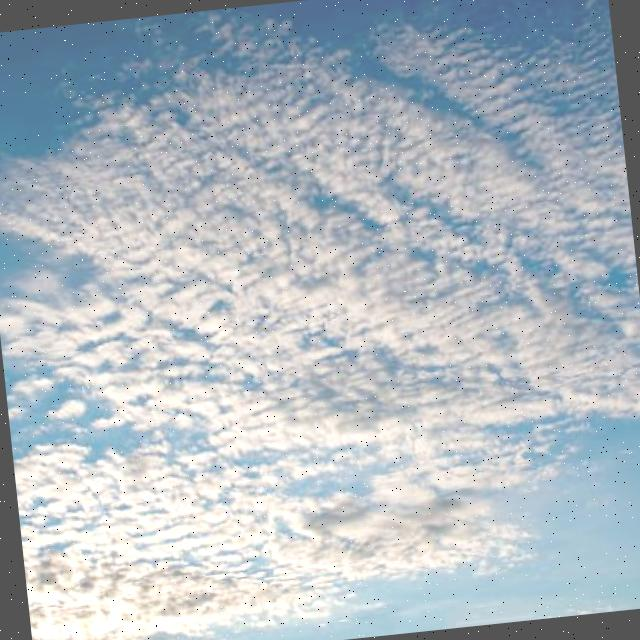Cc: (1, 1, 640, 565)
